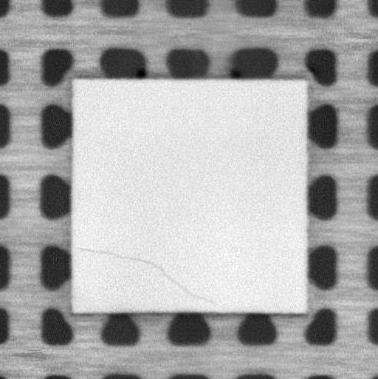DIE_CRACK: (79, 246, 218, 303)
